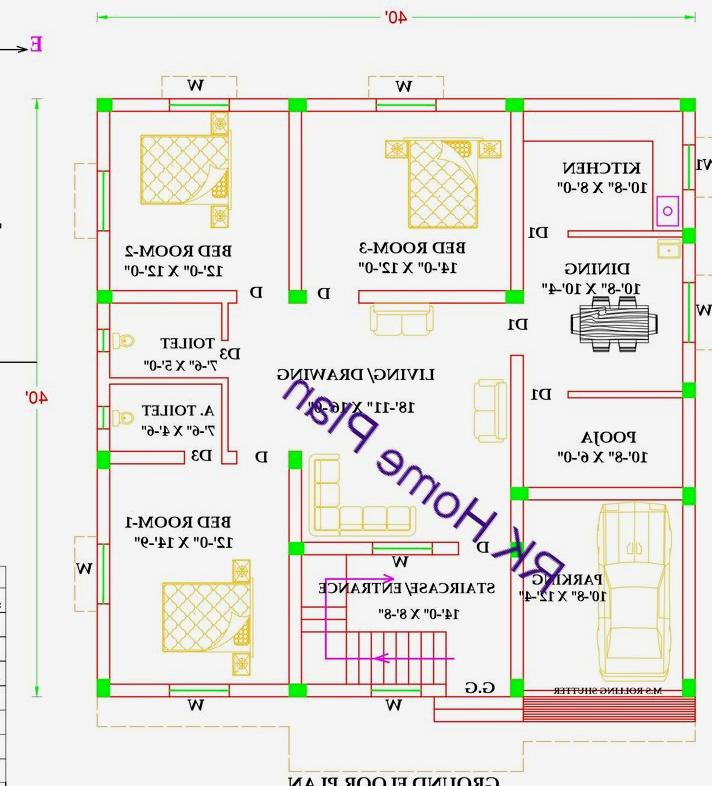Blueprint: (88, 91, 702, 707)
wall: (508, 109, 526, 292), (287, 108, 303, 292), (682, 502, 698, 680), (522, 96, 682, 113), (526, 485, 684, 501), (357, 289, 508, 305), (111, 288, 240, 305), (509, 556, 526, 680), (288, 553, 303, 685), (510, 352, 524, 488), (521, 687, 684, 698), (218, 383, 239, 467), (680, 395, 698, 490), (95, 600, 112, 680), (566, 389, 684, 400), (432, 696, 524, 710), (95, 466, 111, 546), (108, 450, 187, 466), (435, 96, 507, 113), (108, 375, 230, 385), (306, 96, 377, 113), (306, 682, 373, 700), (288, 468, 304, 543), (565, 229, 684, 239), (226, 96, 290, 114), (94, 110, 112, 173), (228, 682, 289, 700), (302, 541, 373, 556), (110, 96, 172, 113), (96, 229, 112, 292), (108, 682, 170, 698), (95, 350, 112, 407), (508, 496, 526, 544), (680, 340, 698, 386), (680, 241, 698, 284), (680, 109, 698, 148), (682, 188, 698, 230), (418, 682, 449, 698), (430, 541, 460, 557), (95, 302, 112, 330)
